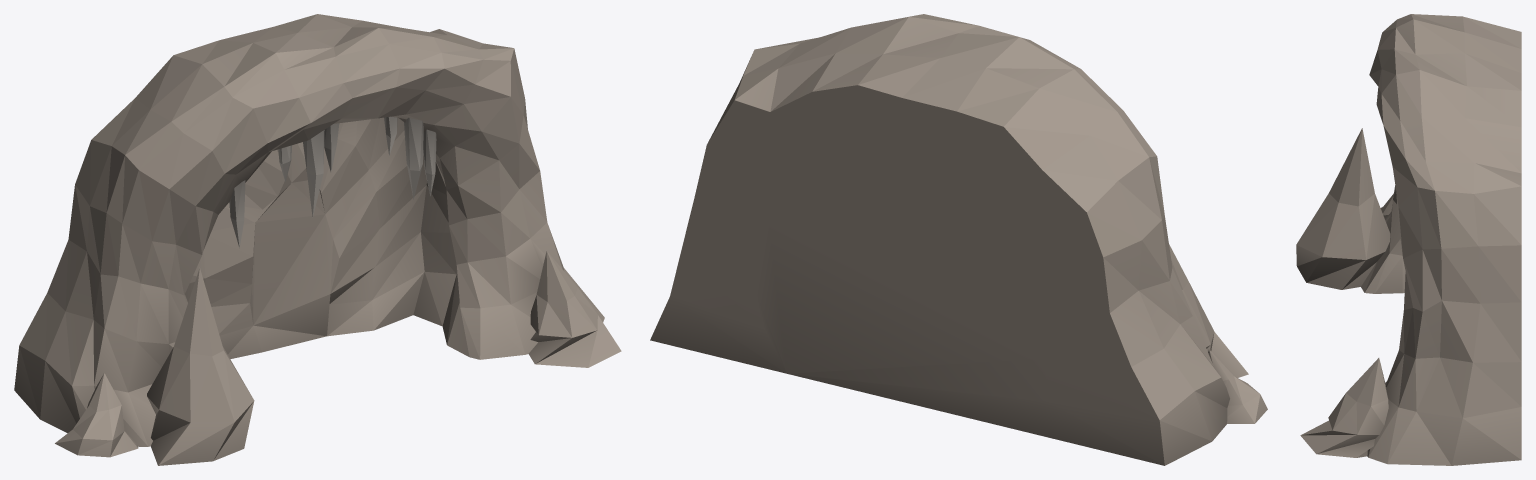
Rendered from arch.glb.
3 views of the same model, side by side, from view 1: azimuth 30°, elevation 25°; view 2: azimuth 150°, elevation 25°; view 3: azimuth 270°, elevation 25° (orthographic). The views are drawn at different scales.
Parts seen in each view (by area): view 1: arch; view 2: arch; view 3: arch.
Part boxes in pixels (x1,y1,x2,y2): arch: (14, 14, 621, 465); arch: (650, 14, 1267, 465); arch: (1296, 14, 1521, 465).
Size of the model in its own units: 27.84 by 16.14 by 10.86.
